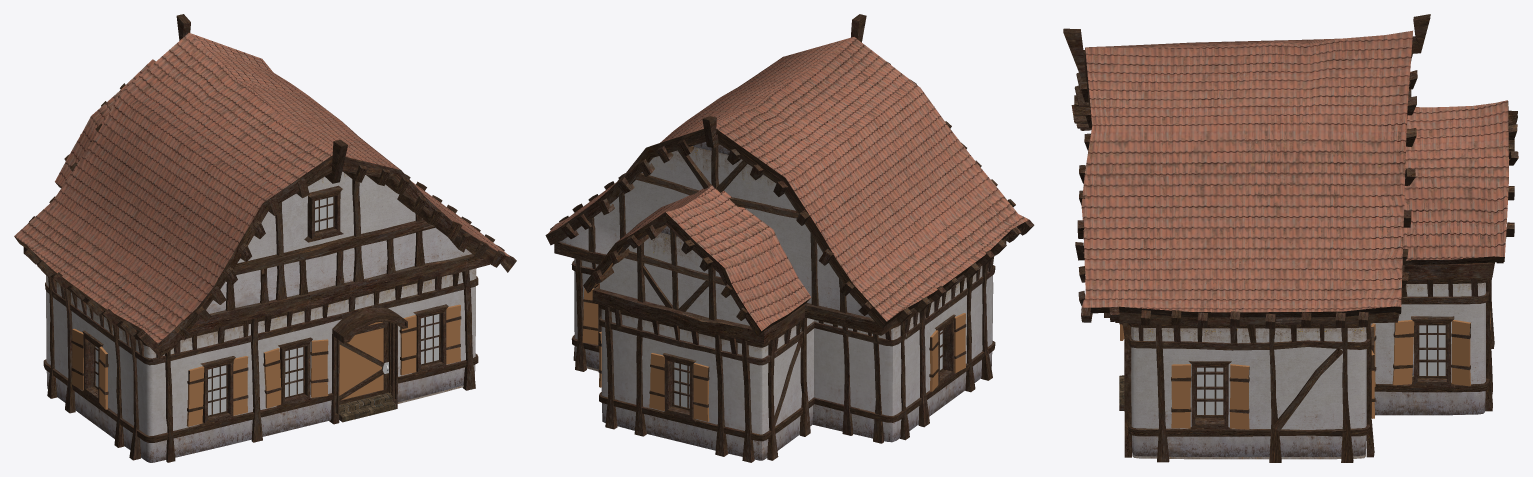
Rendered from port_edelmann_founder_village.FBX.
The picture shows the model from 3 angles, left to right: view 1: azimuth 30°, elevation 25°; view 2: azimuth 150°, elevation 25°; view 3: azimuth 270°, elevation 25°; orthographic projection. The views are drawn at different scales.
Parts seen in each view (by area): view 1: port_edelmann_founder_village, port_edelmann_founder_village_door; view 2: port_edelmann_founder_village; view 3: port_edelmann_founder_village.
Part boxes in pixels (box(x1,y1,x2,y2)): port_edelmann_founder_village: box(14, 14, 516, 462); port_edelmann_founder_village_door: box(339, 321, 388, 404); port_edelmann_founder_village: box(545, 14, 1034, 462); port_edelmann_founder_village: box(1063, 14, 1518, 462).
Bounding box in the file's own units: 1394 × 1117 × 1297.
